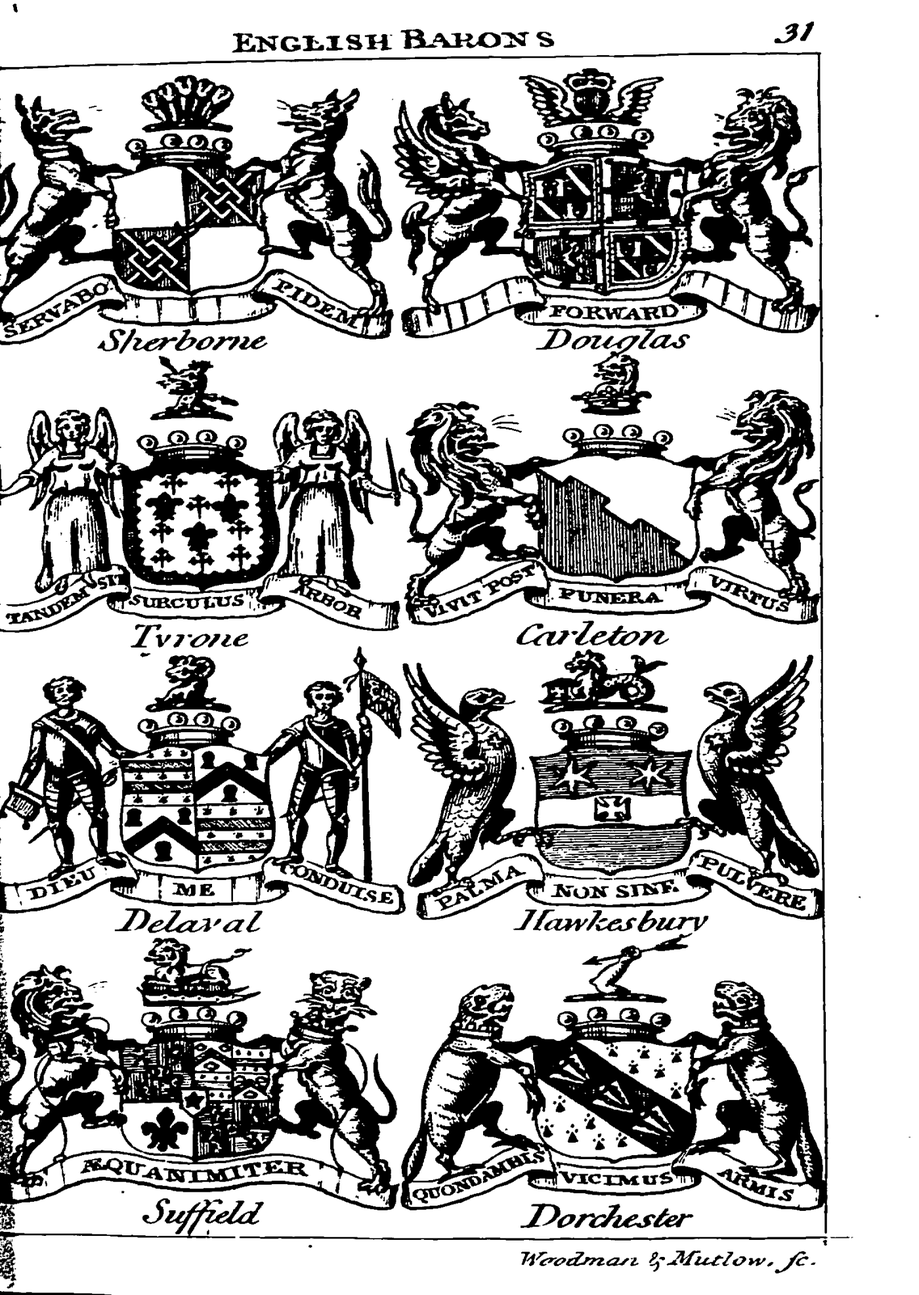coat_of_arms: (394, 363, 823, 654), (398, 65, 815, 361), (2, 67, 398, 370), (404, 659, 824, 939), (407, 940, 815, 1228), (1, 936, 401, 1225), (1, 658, 407, 940), (7, 361, 396, 654)
